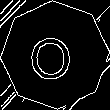O_N: (32, 28, 78, 82)
